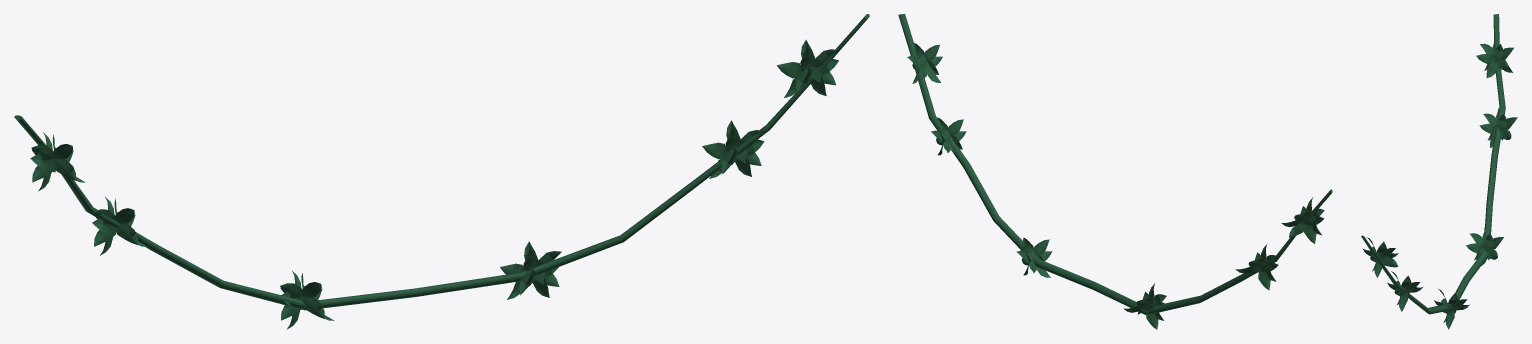
Rendered from Liana2.fbx.
The picture shows the model from 3 angles, left to right: view 1: azimuth 30°, elevation 25°; view 2: azimuth 150°, elevation 25°; view 3: azimuth 270°, elevation 25°; orthographic projection. The views are drawn at different scales.
Parts seen in each view (by area): view 1: BézierCurve.002; view 2: BézierCurve.002; view 3: BézierCurve.002.
Part boxes in pixels (x1,y1,x2,y2): BézierCurve.002: (14, 14, 869, 329); BézierCurve.002: (898, 14, 1332, 329); BézierCurve.002: (1361, 14, 1517, 329).
Bounding box in the file's own units: 1547 × 542 × 457.
